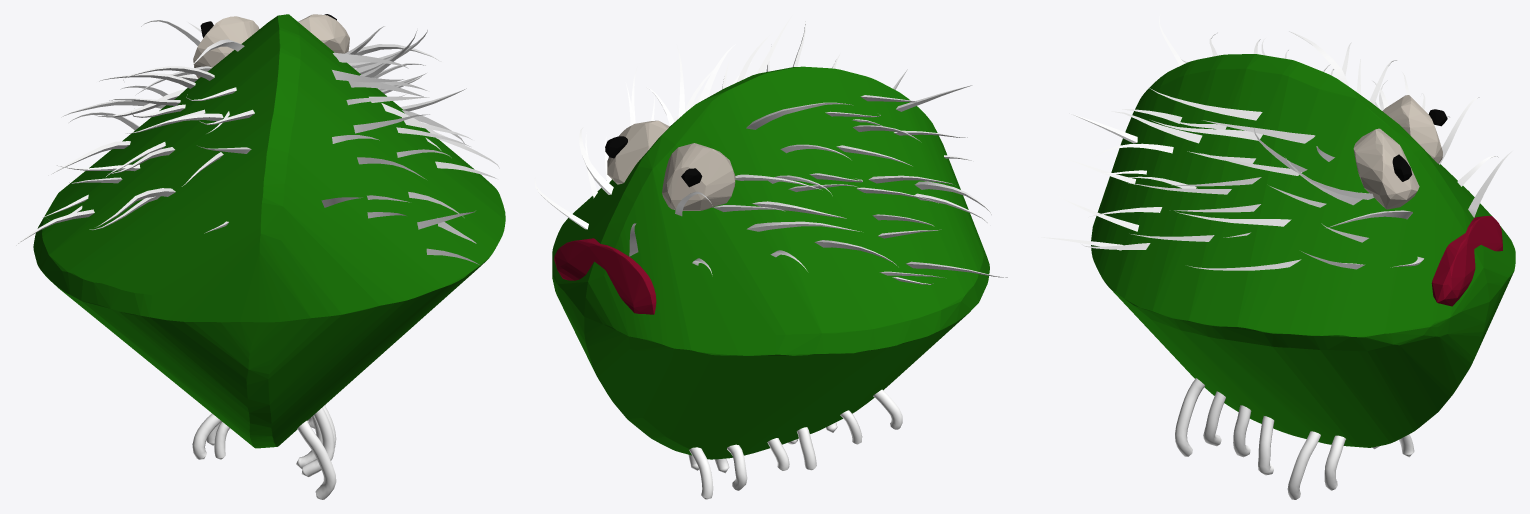
3 renders of one model, left to right at view 1: azimuth 30°, elevation 25°; view 2: azimuth 150°, elevation 25°; view 3: azimuth 270°, elevation 25°, orthographic. The views are drawn at different scales.
Visible parts, largest first — view 1: Untitled_MatteHull_geo, Untitled_Spikes_geo, Untitled_Icing_geo; view 2: Untitled_MatteHull_geo, Untitled_Spikes_geo, Untitled_Icing_geo; view 3: Untitled_MatteHull_geo, Untitled_Spikes_geo, Untitled_Icing_geo.
Part boxes in pixels (x1,y1,x2,y2): Untitled_MatteHull_geo: [33, 14, 505, 448]; Untitled_Spikes_geo: [15, 20, 499, 264]; Untitled_Icing_geo: [192, 405, 336, 499]; Untitled_MatteHull_geo: [552, 66, 989, 459]; Untitled_Spikes_geo: [534, 15, 1007, 284]; Untitled_Icing_geo: [688, 389, 902, 499]; Untitled_MatteHull_geo: [1091, 54, 1515, 447]; Untitled_Spikes_geo: [1041, 16, 1512, 270]; Untitled_Icing_geo: [1175, 378, 1414, 499].
Bounding box in the file's own units: 0.4965 × 0.4518 × 0.4679.
